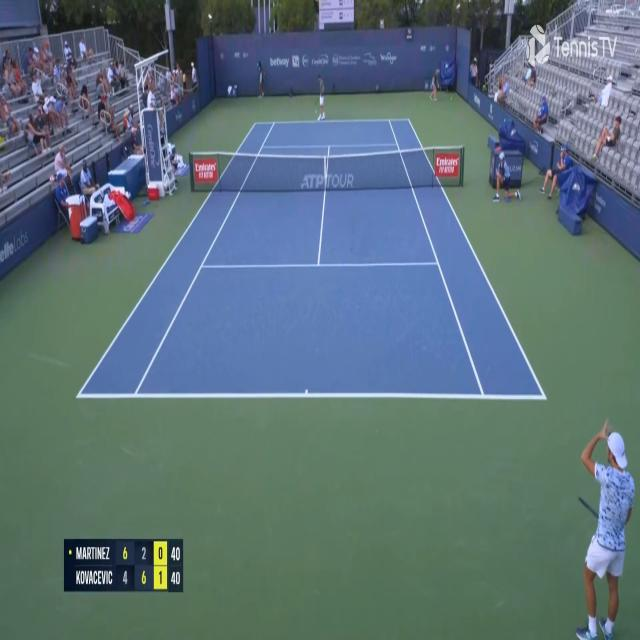tennis-player: (574, 410, 638, 640), (314, 70, 326, 122)
